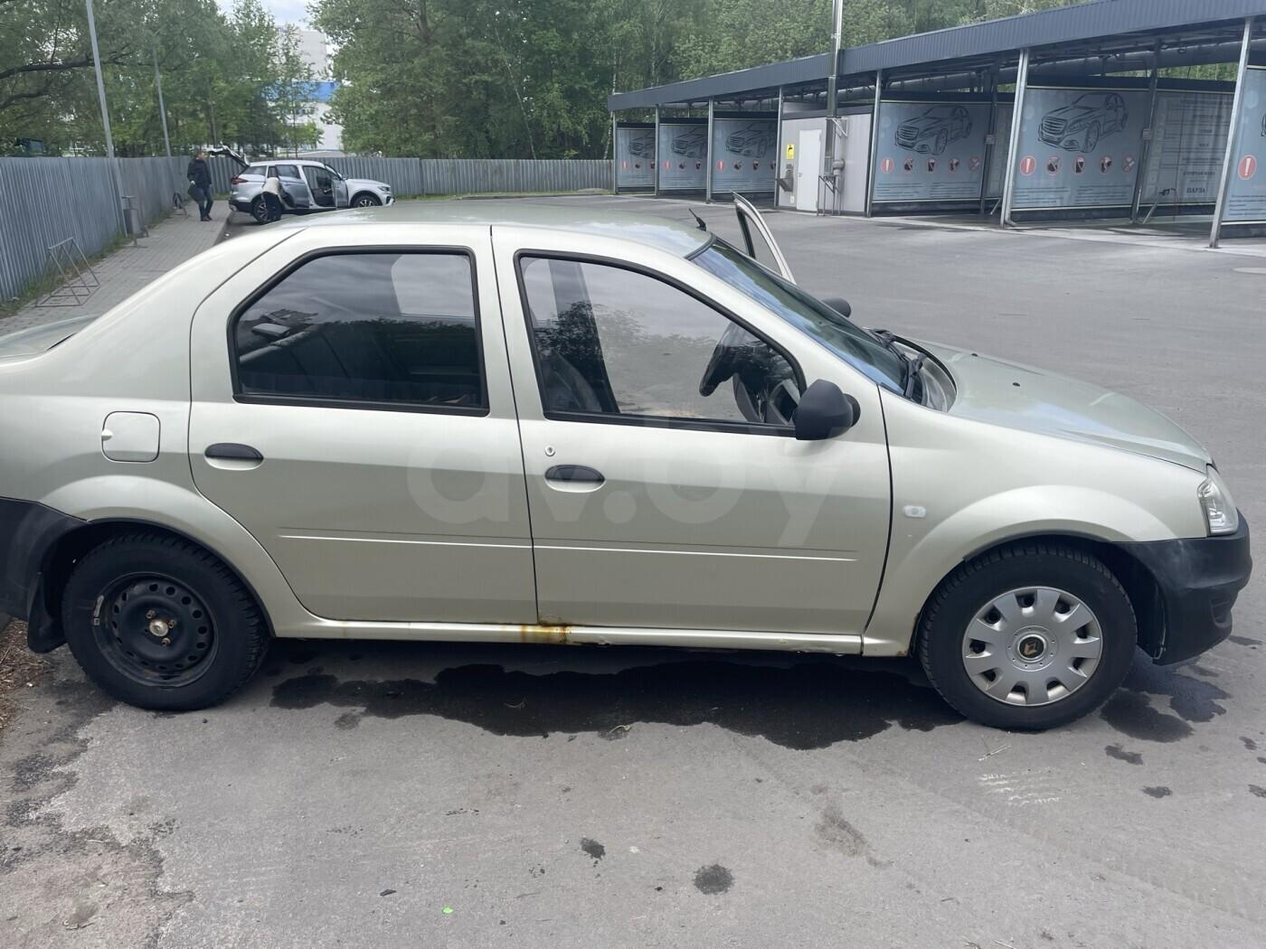Logan_2008-2015: (0, 194, 1252, 742)
